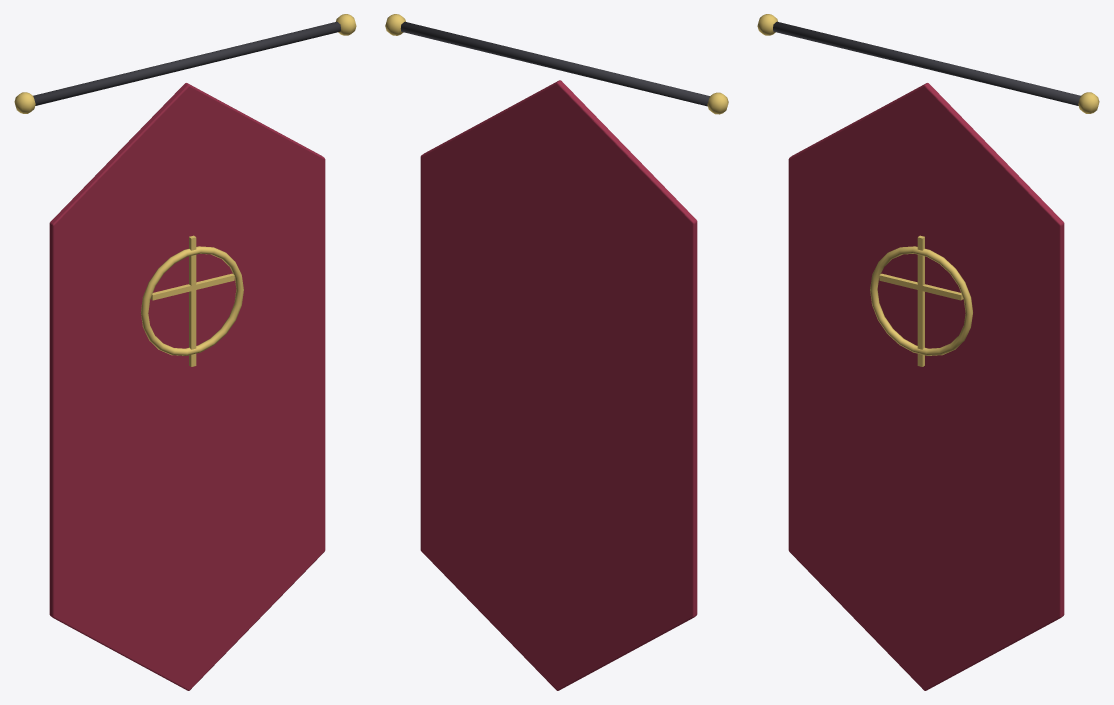
File: banner_hex_banner.glb
3 views of the same model, side by side, from view 1: azimuth 30°, elevation 25°; view 2: azimuth 150°, elevation 25°; view 3: azimuth 330°, elevation 25° (orthographic).
Parts seen in each view (by area): view 1: GD_banner_hex_banner__m2, GD_banner_hex_banner__m1, GD_banner_hex_banner__m0; view 2: GD_banner_hex_banner__m2, GD_banner_hex_banner__m0, GD_banner_hex_banner__m1; view 3: GD_banner_hex_banner__m2, GD_banner_hex_banner__m1, GD_banner_hex_banner__m0.
Boxes of the visible parts, x1,y1,x2,y2 form: GD_banner_hex_banner__m2: (49, 83, 325, 690); GD_banner_hex_banner__m1: (14, 14, 356, 366); GD_banner_hex_banner__m0: (33, 21, 340, 105); GD_banner_hex_banner__m2: (420, 80, 697, 690); GD_banner_hex_banner__m0: (400, 22, 709, 106); GD_banner_hex_banner__m1: (385, 14, 728, 114); GD_banner_hex_banner__m2: (788, 83, 1064, 690); GD_banner_hex_banner__m1: (757, 14, 1099, 366); GD_banner_hex_banner__m0: (773, 21, 1080, 105).
Bounding box in the file's own units: 0.996 × 1.78 × 0.073.
